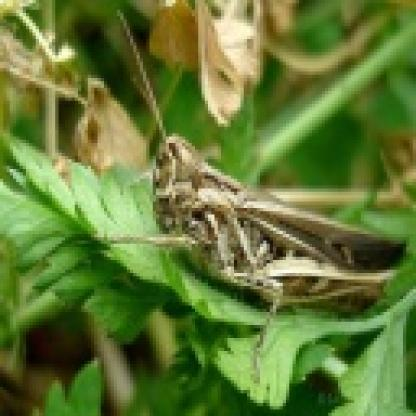grasshopper: (131, 121, 405, 325)
